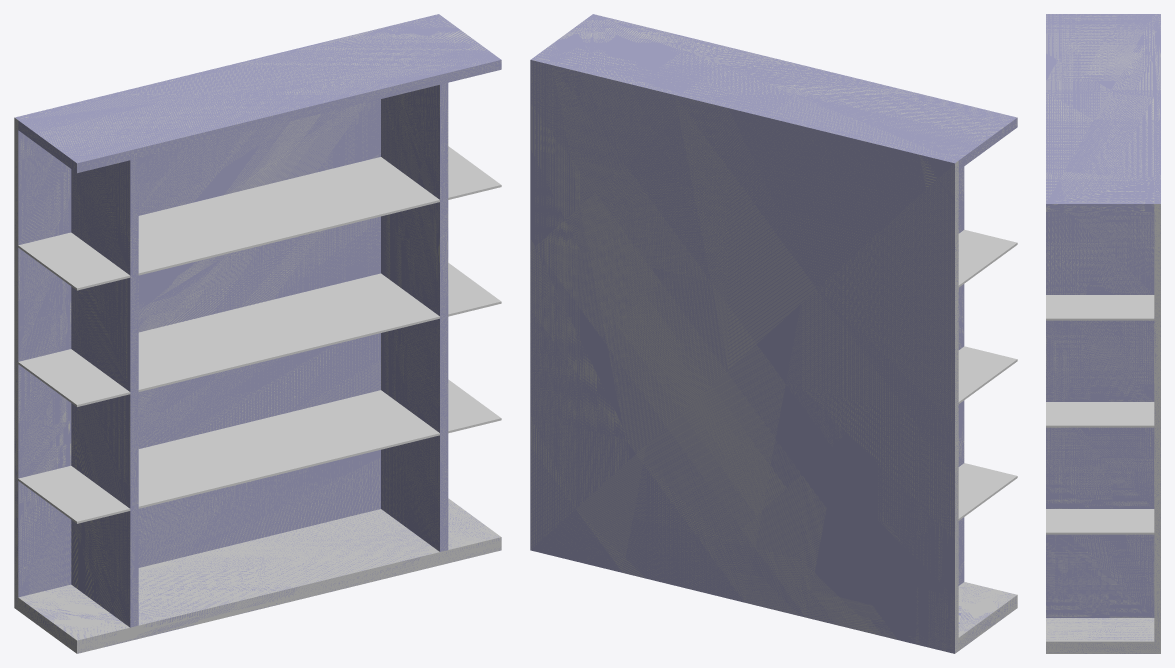
3 views of the same model, side by side, from view 1: azimuth 30°, elevation 25°; view 2: azimuth 150°, elevation 25°; view 3: azimuth 270°, elevation 25° (orthographic). The views are drawn at different scales.
Visible parts, largest first — view 1: SketchUp_001, SketchUp, SketchUp_010, SketchUp_003, SketchUp_004, SketchUp_005, SketchUp_008, SketchUp_009, SketchUp_006, SketchUp_007; view 2: SketchUp_001, SketchUp, SketchUp_005, SketchUp_008, SketchUp_010; view 3: SketchUp_001, SketchUp, SketchUp_006, SketchUp_007, SketchUp_009.
Boxes of the visible parts, x1,y1,x2,y2 form: SketchUp_001: [15, 14, 501, 627]; SketchUp: [14, 117, 501, 653]; SketchUp_010: [18, 390, 439, 523]; SketchUp_003: [138, 157, 439, 275]; SketchUp_004: [138, 273, 439, 391]; SketchUp_005: [18, 232, 130, 290]; SketchUp_008: [18, 349, 130, 406]; SketchUp_009: [448, 379, 501, 433]; SketchUp_006: [448, 146, 501, 199]; SketchUp_007: [448, 263, 501, 316]; SketchUp_001: [530, 14, 1017, 653]; SketchUp: [955, 161, 1017, 653]; SketchUp_005: [958, 229, 1017, 287]; SketchUp_008: [958, 346, 1017, 403]; SketchUp_010: [958, 463, 1017, 520]; SketchUp_001: [1046, 14, 1160, 617]; SketchUp: [1046, 204, 1160, 653]; SketchUp_006: [1046, 295, 1154, 320]; SketchUp_007: [1046, 402, 1154, 427]; SketchUp_009: [1046, 509, 1154, 534].
Bounding box in the file's own units: 1.66 × 0.425 × 1.84.
